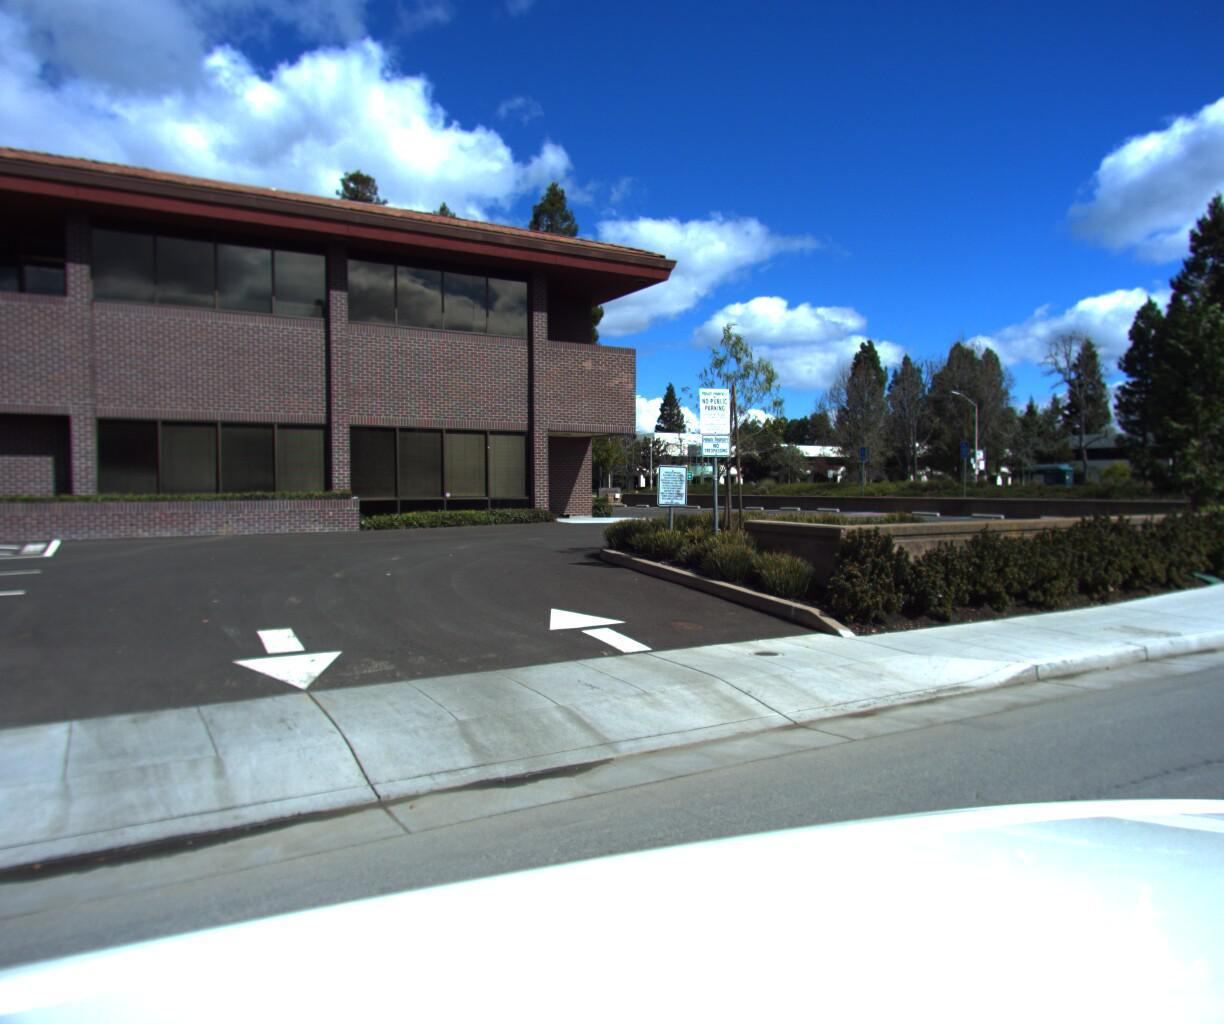car: (1170, 467, 1224, 507)
